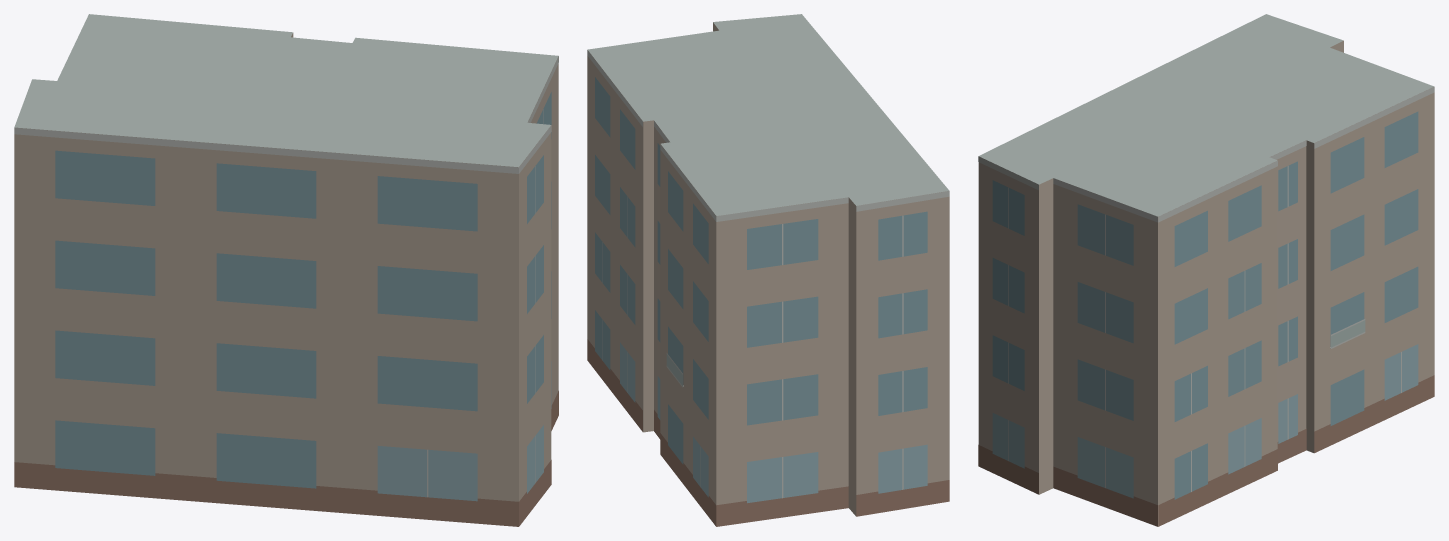
Rendered from survey-upis-32526440.glb.
The picture shows the model from 3 angles, left to right: view 1: azimuth 30°, elevation 25°; view 2: azimuth 150°, elevation 25°; view 3: azimuth 270°, elevation 25°; orthographic projection. The views are drawn at different scales.
Visible parts, largest first — view 1: survey-upis-32526440.tmp; view 2: survey-upis-32526440.tmp; view 3: survey-upis-32526440.tmp.
Boxes of the visible parts, <box> form: survey-upis-32526440.tmp: <box>14,14,558,526</box>; survey-upis-32526440.tmp: <box>587,14,949,526</box>; survey-upis-32526440.tmp: <box>978,14,1434,526</box>.
Bounding box in the file's own units: 18.02 × 12.85 × 17.13.
